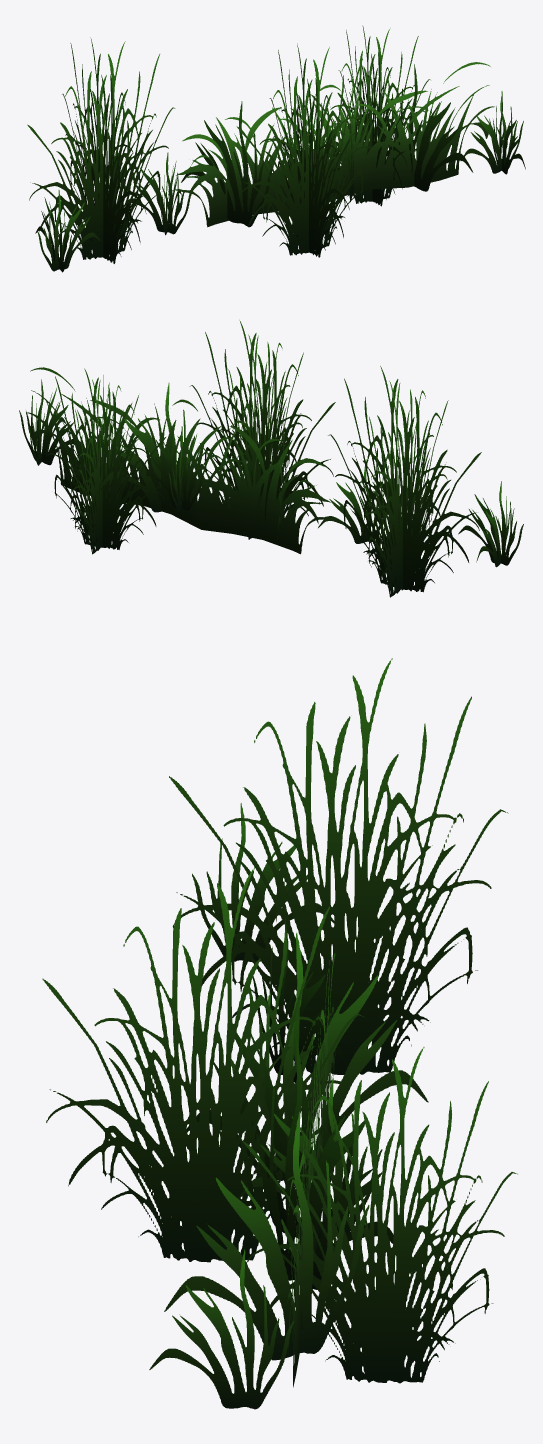
The model's file is grass2.glb.
3 views of the same model, one above another, from view 1: azimuth 30°, elevation 25°; view 2: azimuth 150°, elevation 25°; view 3: azimuth 270°, elevation 25° (orthographic). The views are drawn at different scales.
Visible parts, largest first — view 1: grass(noColl)(light); view 2: grass(noColl)(light); view 3: grass(noColl)(light).
Part boxes in pixels (x1,y1,x2,y2): grass(noColl)(light): [27, 25, 525, 272]; grass(noColl)(light): [19, 320, 523, 597]; grass(noColl)(light): [42, 658, 517, 1409].
Bounding box in the file's own units: 8.52 × 4.03 × 3.87.
2 materials, 2 textured.
